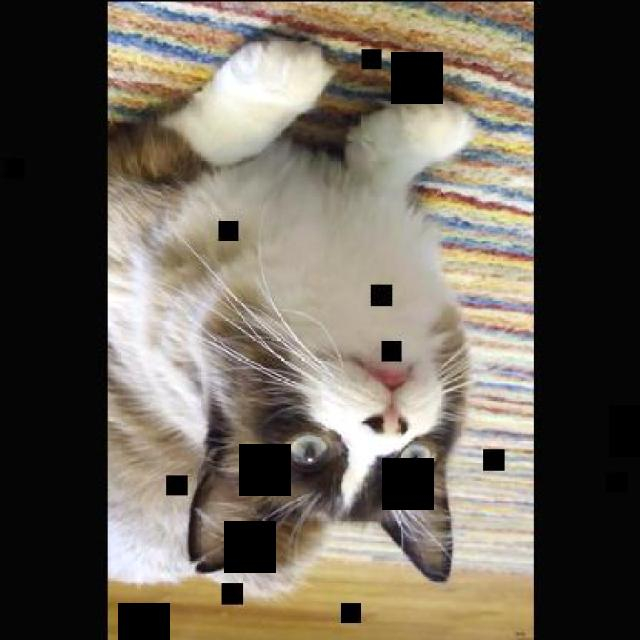unauthorized: (106, 32, 477, 600)
